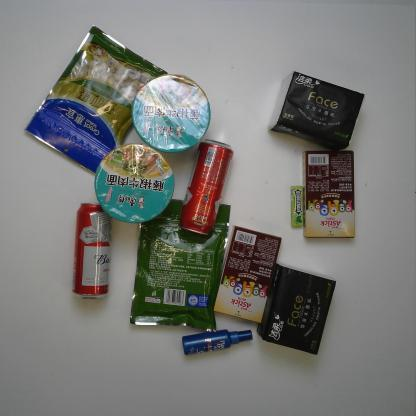Alcohol: (178, 138, 234, 238), (69, 198, 113, 299)
Dessert: (210, 225, 284, 324), (300, 148, 358, 240)
Dried Fruit: (23, 22, 169, 178), (127, 192, 232, 332)
Gum: (289, 184, 307, 228)
Instant Noodles: (91, 141, 176, 227), (128, 70, 213, 155)
Personal Hygiene: (180, 328, 254, 357)
Tissue: (268, 68, 366, 152), (255, 261, 338, 357)
